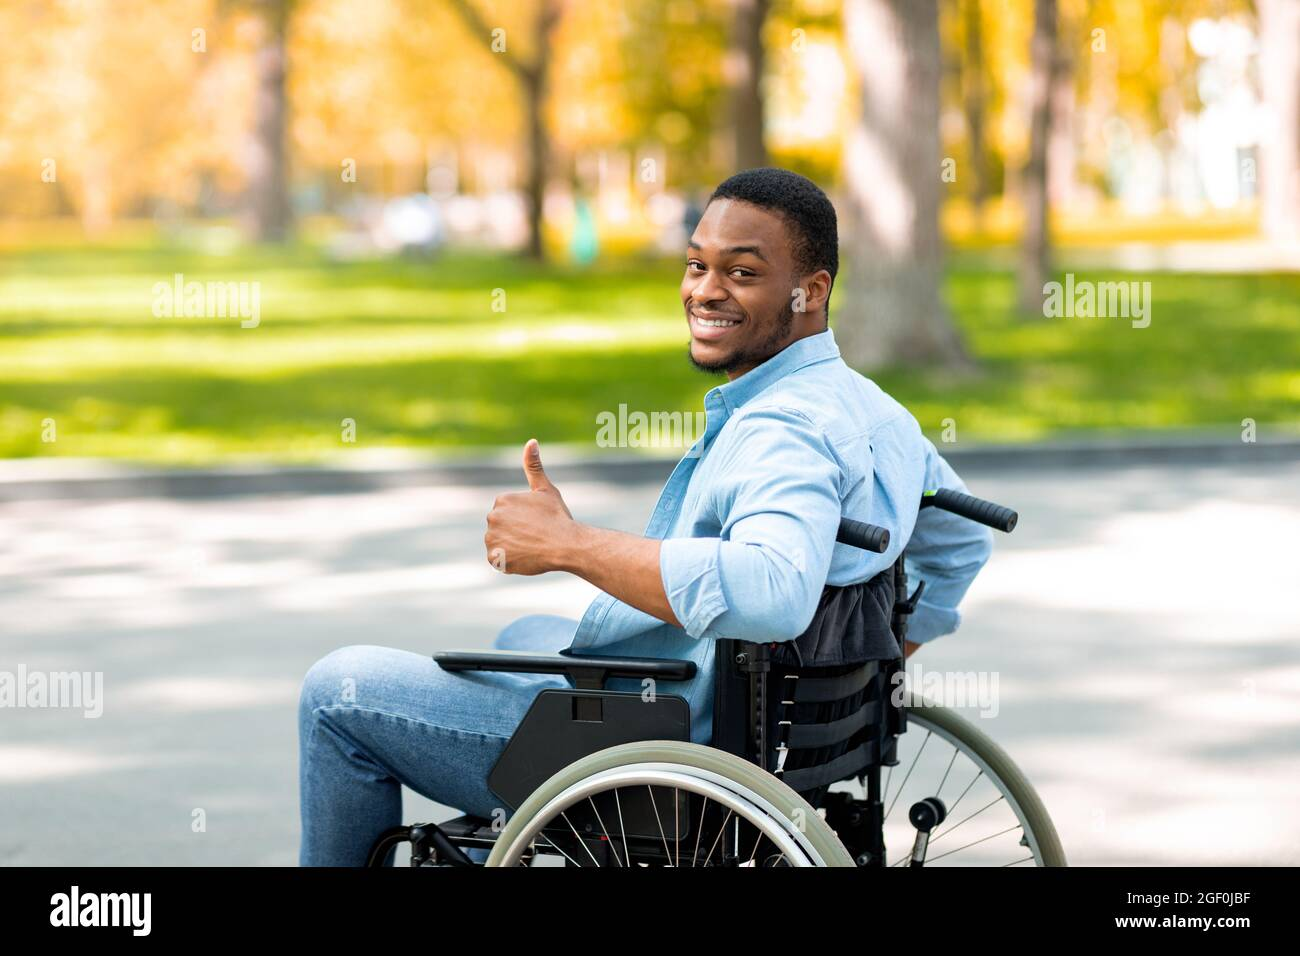thumbsUp: (460, 430, 588, 588)
